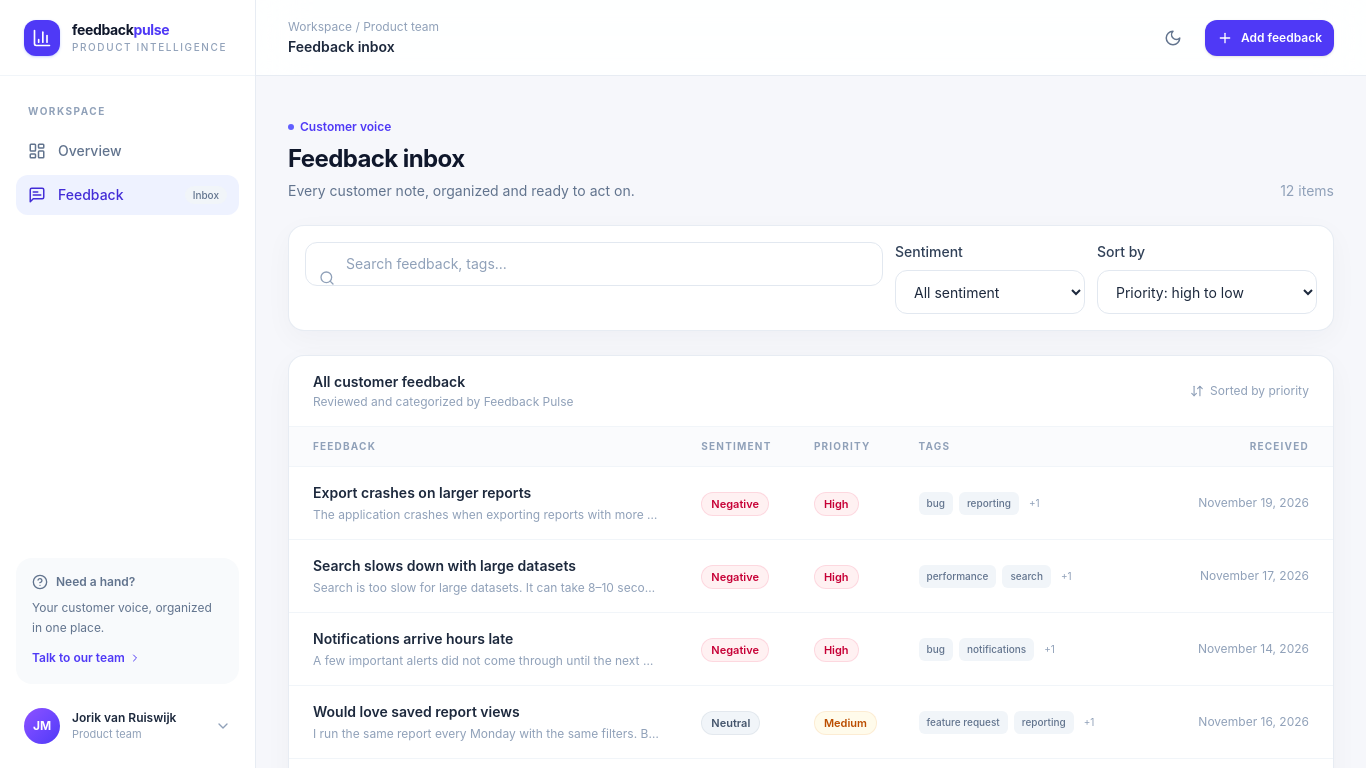
Test case: feedback inbox › filters results as the customer searches
Step 1. Type "dark mode" into the field labelled "Search feedback" → point(594, 264), box [305,242,883,286]
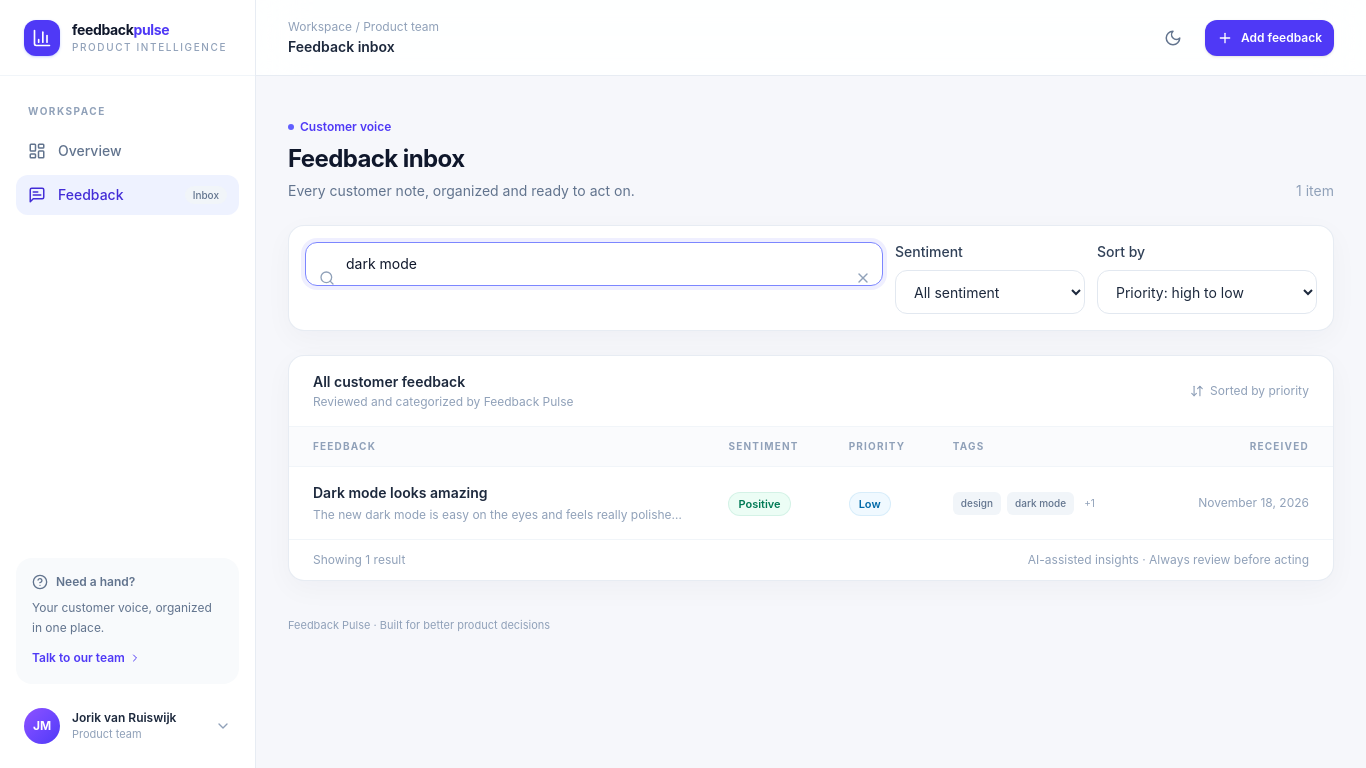
Expected: the link "Dark mode looks amazing" is shown, [313,484,488,501]
Expected: the link "Export crashes on larger reports" is gone
Expected: the text "1 item" is shown, [1296,181,1334,201]
